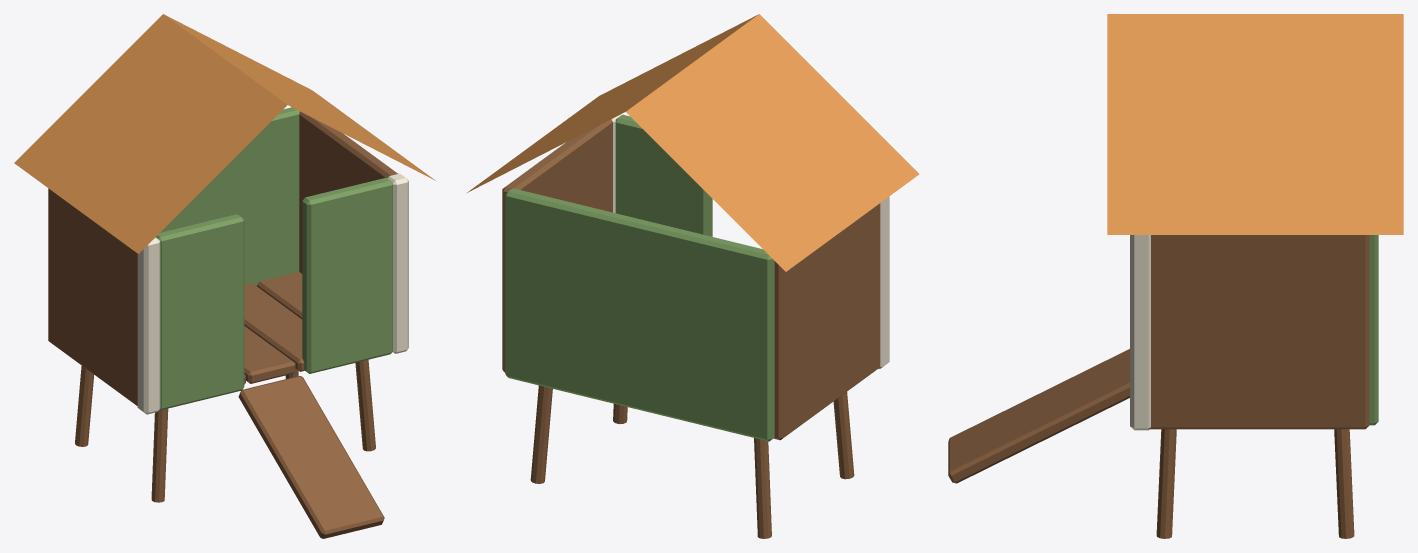
File: Chicken_Coop_A.glb
3 renders of one model, left to right at view 1: azimuth 30°, elevation 25°; view 2: azimuth 150°, elevation 25°; view 3: azimuth 270°, elevation 25°, orthographic. The views are drawn at different scales.
Parts seen in each view (by area): view 1: Chicken_Coop_A; view 2: Chicken_Coop_A; view 3: Chicken_Coop_A.
Boxes of the visible parts, box(x1,y1,x2,y2) form: Chicken_Coop_A: box(14, 14, 435, 538); Chicken_Coop_A: box(467, 14, 919, 538); Chicken_Coop_A: box(948, 14, 1403, 538).
Size of the model in its own units: 1.8 by 2.23 by 2.
